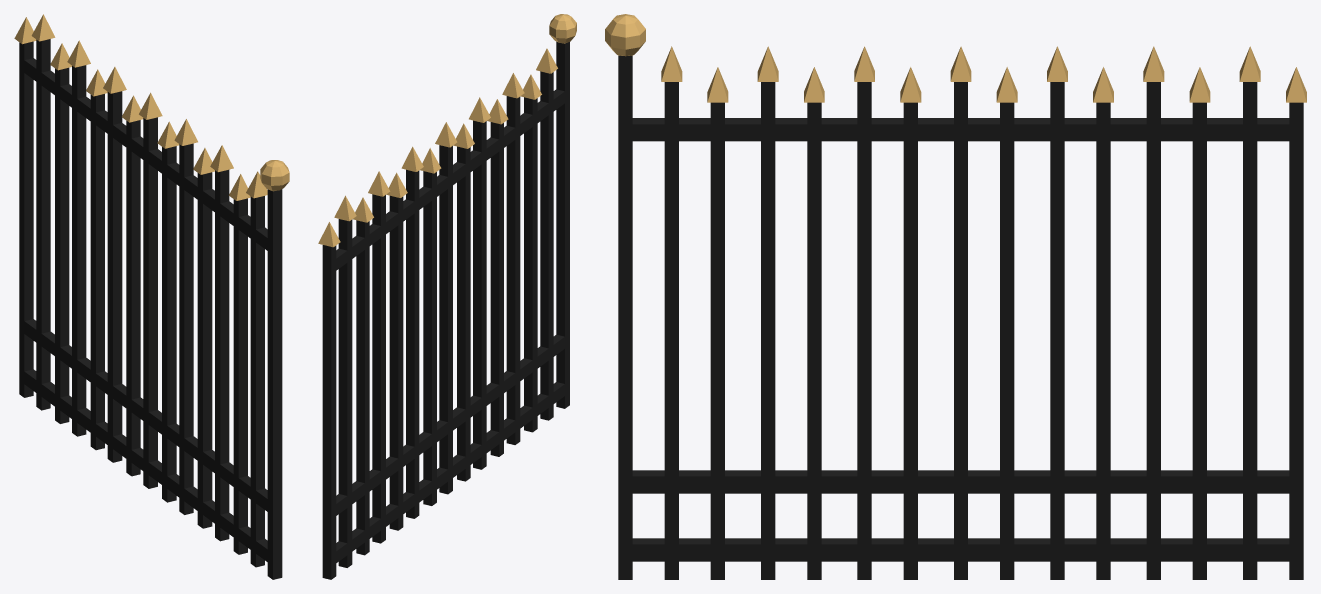
File: P_J_FENCE CONNECT 2 .fbx
3 renders of one model, left to right at view 1: azimuth 30°, elevation 25°; view 2: azimuth 150°, elevation 25°; view 3: azimuth 270°, elevation 25°, orthographic. The views are drawn at different scales.
Parts seen in each view (by area): view 1: J_Fence_Connect_02; view 2: J_Fence_Connect_02; view 3: J_Fence_Connect_02.
Part boxes in pixels (<box>): J_Fence_Connect_02: <box>14,14,289,579</box>; J_Fence_Connect_02: <box>318,14,576,579</box>; J_Fence_Connect_02: <box>605,14,1306,579</box>.
Size of the model in its own units: 17.45 by 264 by 299.
